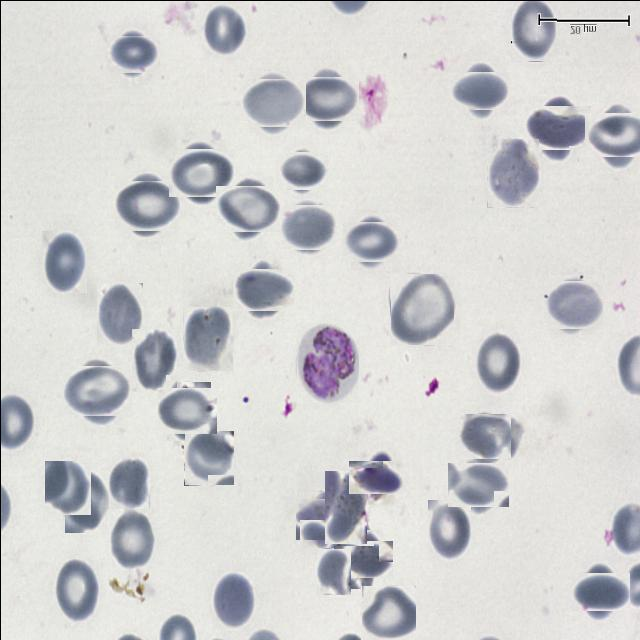red blood cell: (389, 273, 453, 344), (486, 138, 538, 207), (68, 360, 127, 420), (118, 176, 176, 234), (182, 306, 232, 371), (244, 74, 301, 131), (220, 180, 277, 236), (172, 144, 228, 200), (528, 99, 584, 155), (299, 70, 354, 126), (324, 470, 366, 543), (360, 585, 415, 640), (473, 331, 520, 394), (130, 328, 176, 392), (545, 277, 599, 331), (96, 282, 142, 345), (53, 558, 98, 622), (160, 384, 213, 437), (510, 0, 556, 61), (589, 107, 640, 162), (41, 230, 86, 292), (109, 508, 154, 570), (64, 469, 108, 532), (451, 458, 504, 510), (183, 430, 233, 485), (238, 263, 290, 315), (428, 499, 472, 560), (281, 201, 332, 252), (44, 459, 90, 514), (458, 410, 508, 460), (298, 494, 348, 544), (211, 571, 254, 629), (338, 534, 388, 583), (454, 66, 504, 114), (201, 3, 245, 57), (576, 566, 624, 615), (346, 218, 394, 266), (107, 456, 149, 508), (110, 31, 156, 76), (278, 147, 324, 192), (353, 455, 398, 499), (316, 548, 351, 594)
trophozoite: (296, 322, 358, 402)
